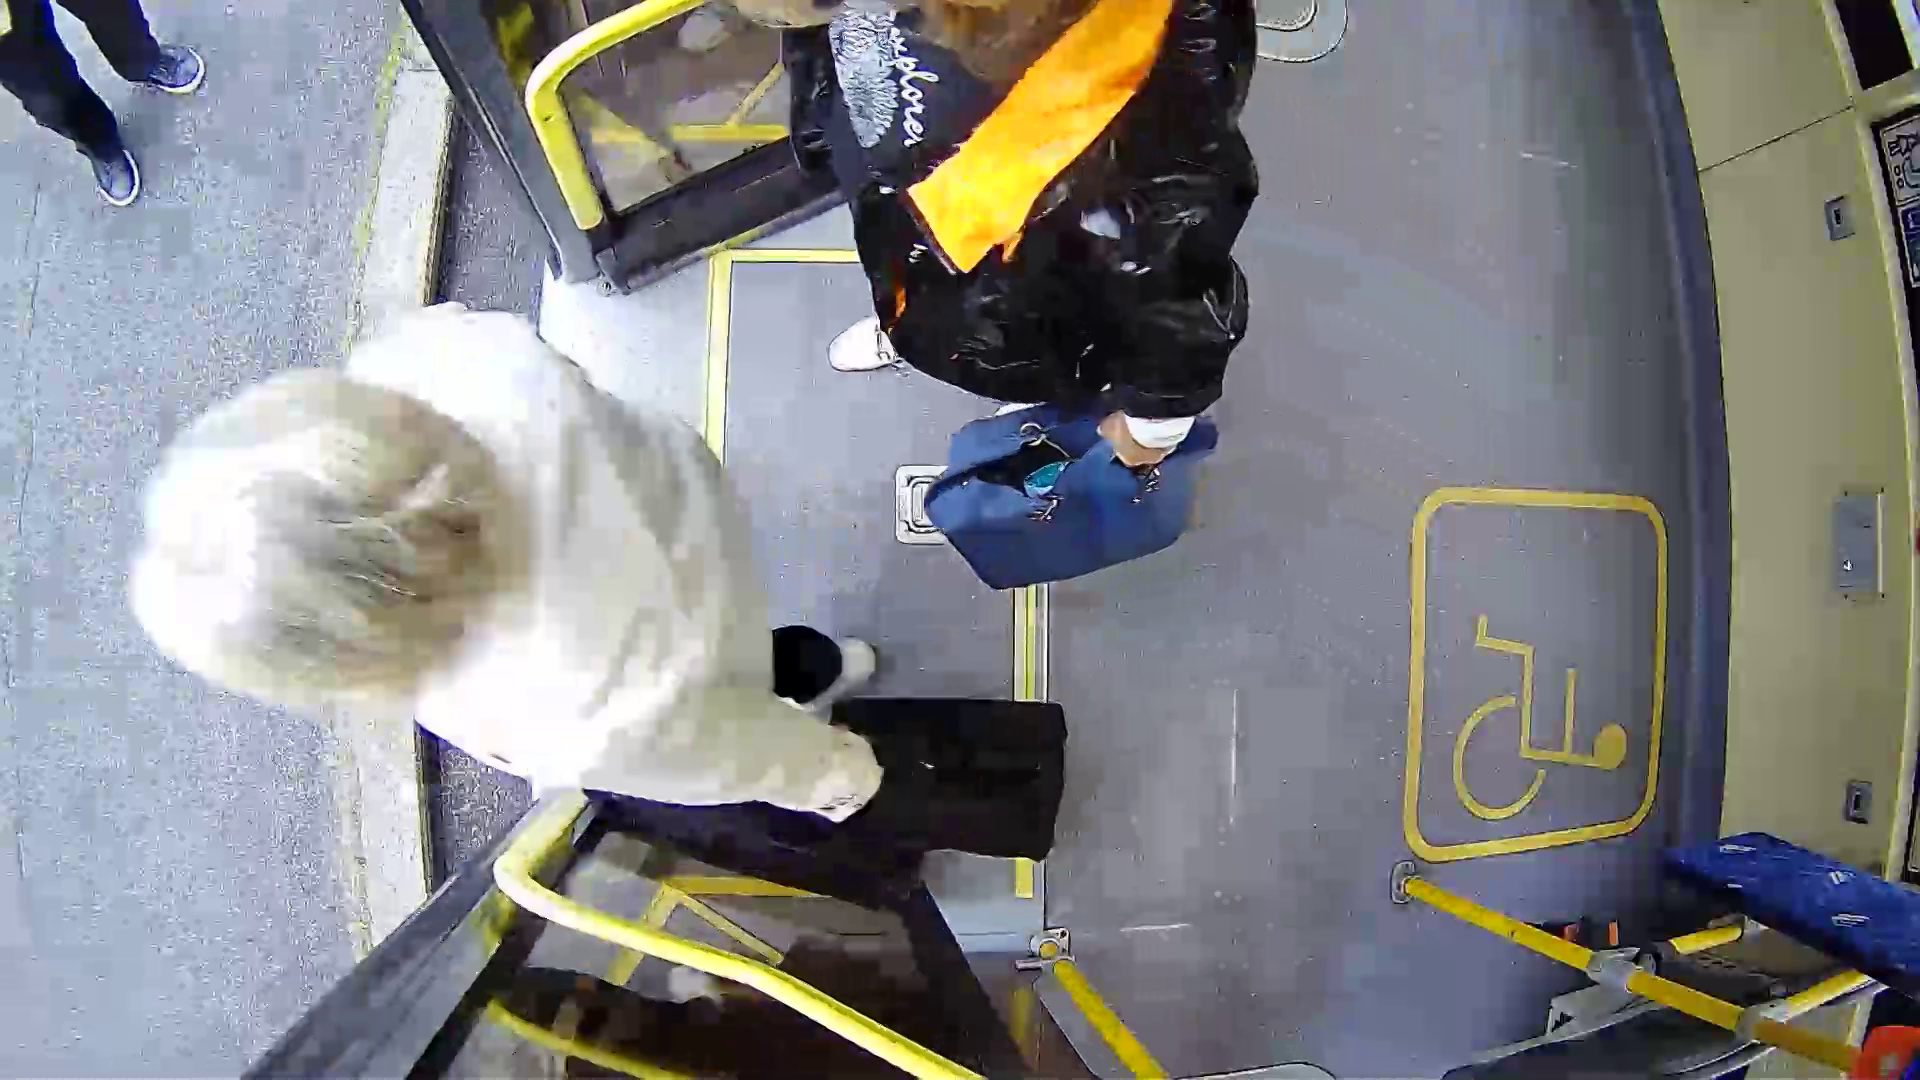person: (87, 295, 915, 853), (759, 4, 1416, 629)
